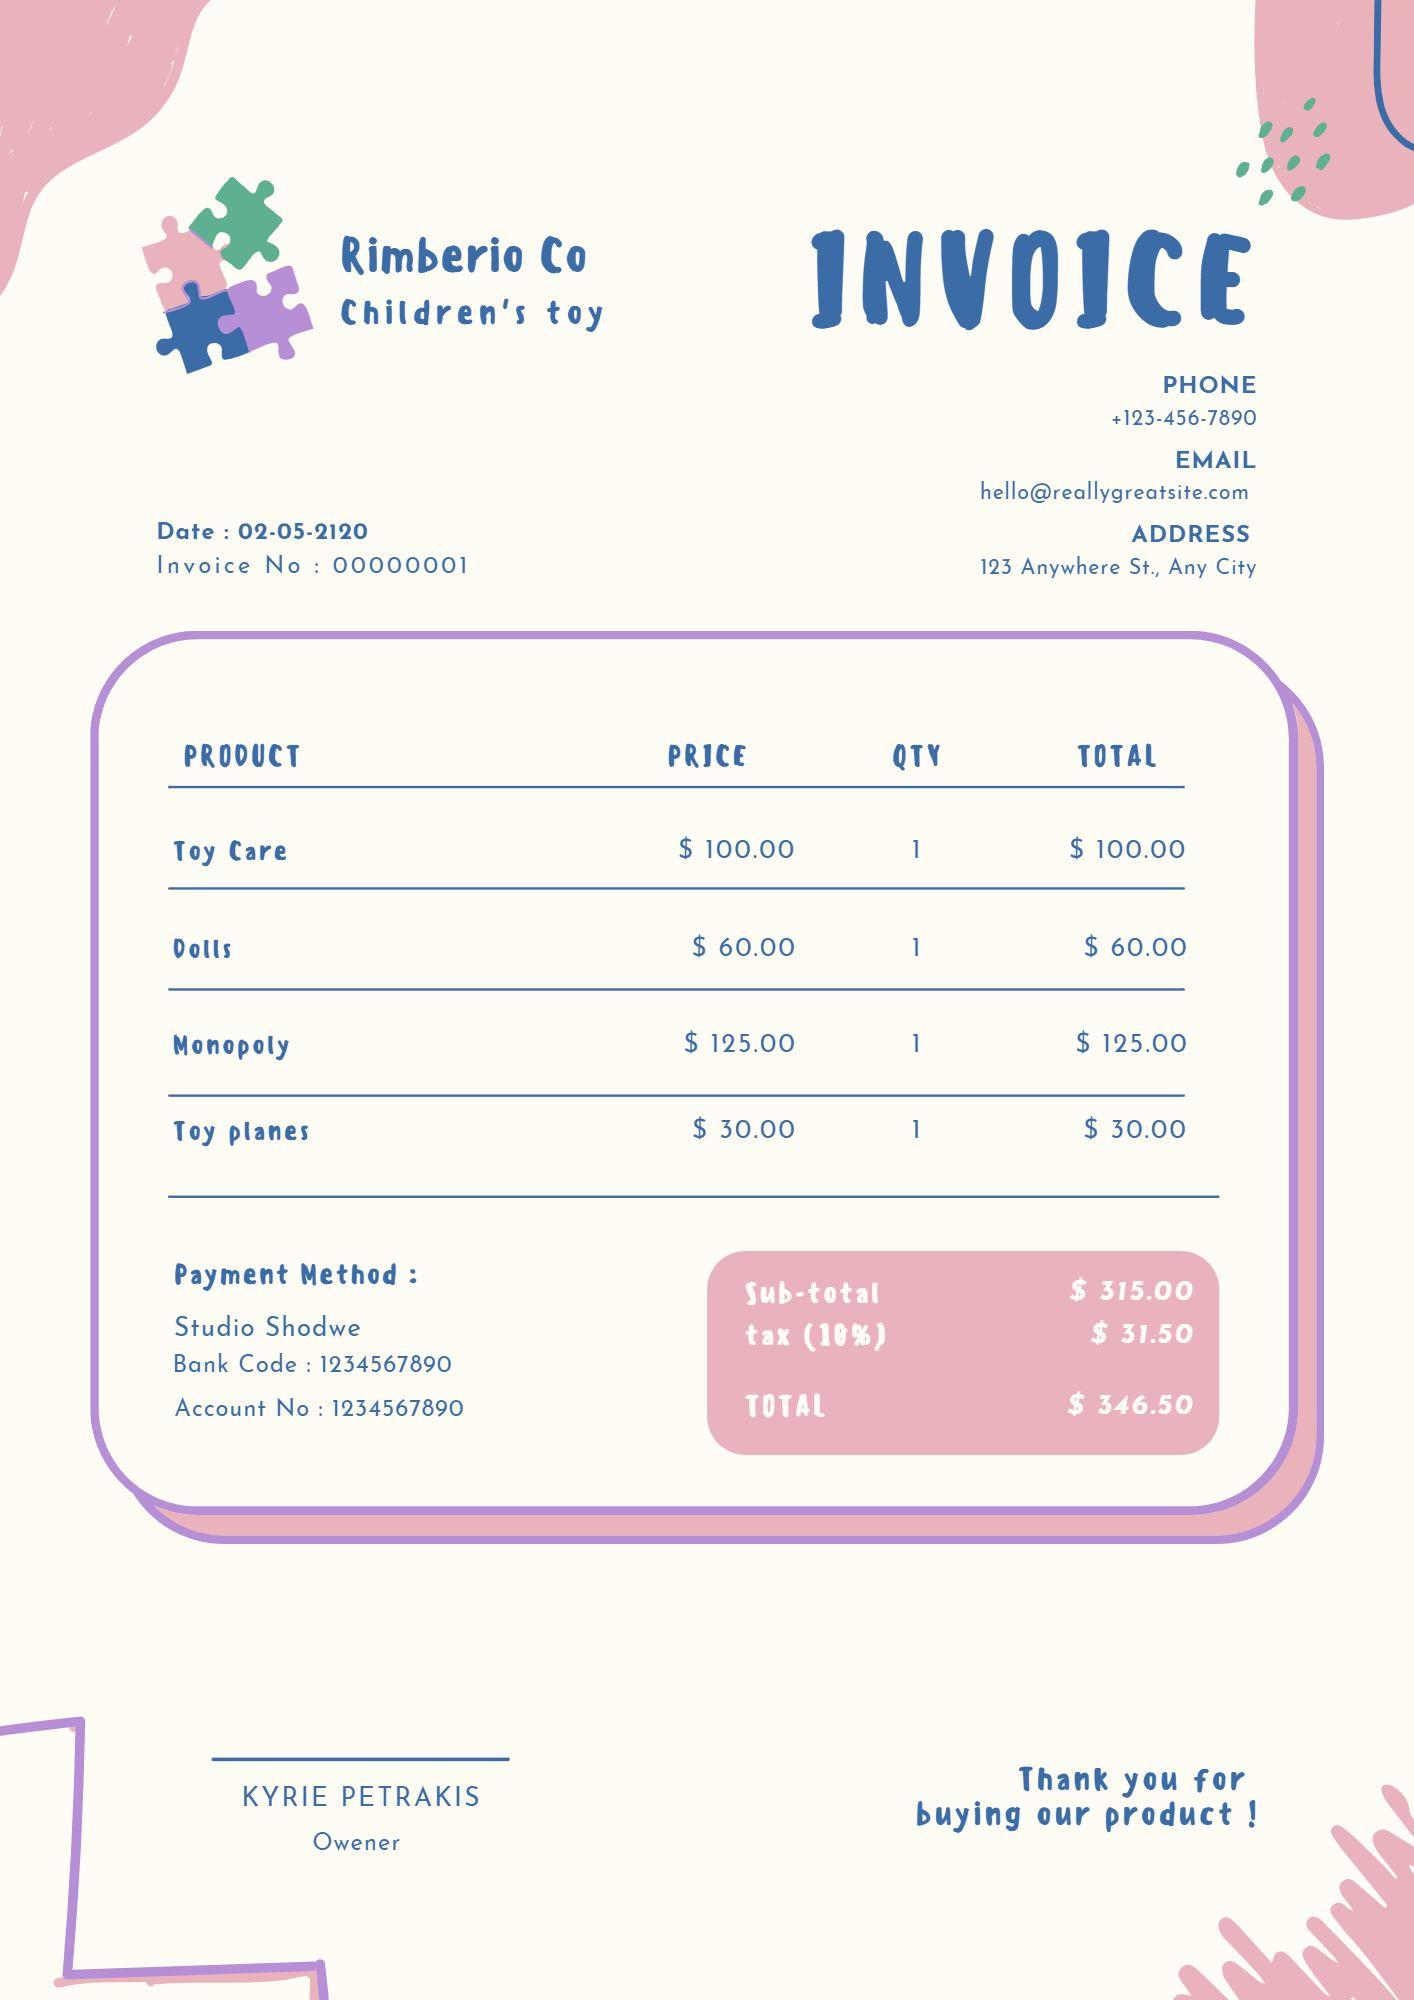ROI: (168, 712, 1214, 1217)
